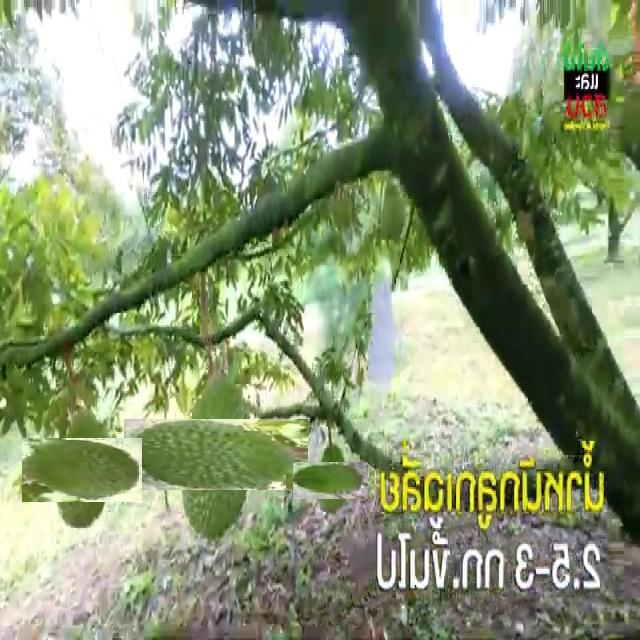durian: (152, 390, 280, 518), (36, 424, 128, 517), (302, 453, 359, 509)
